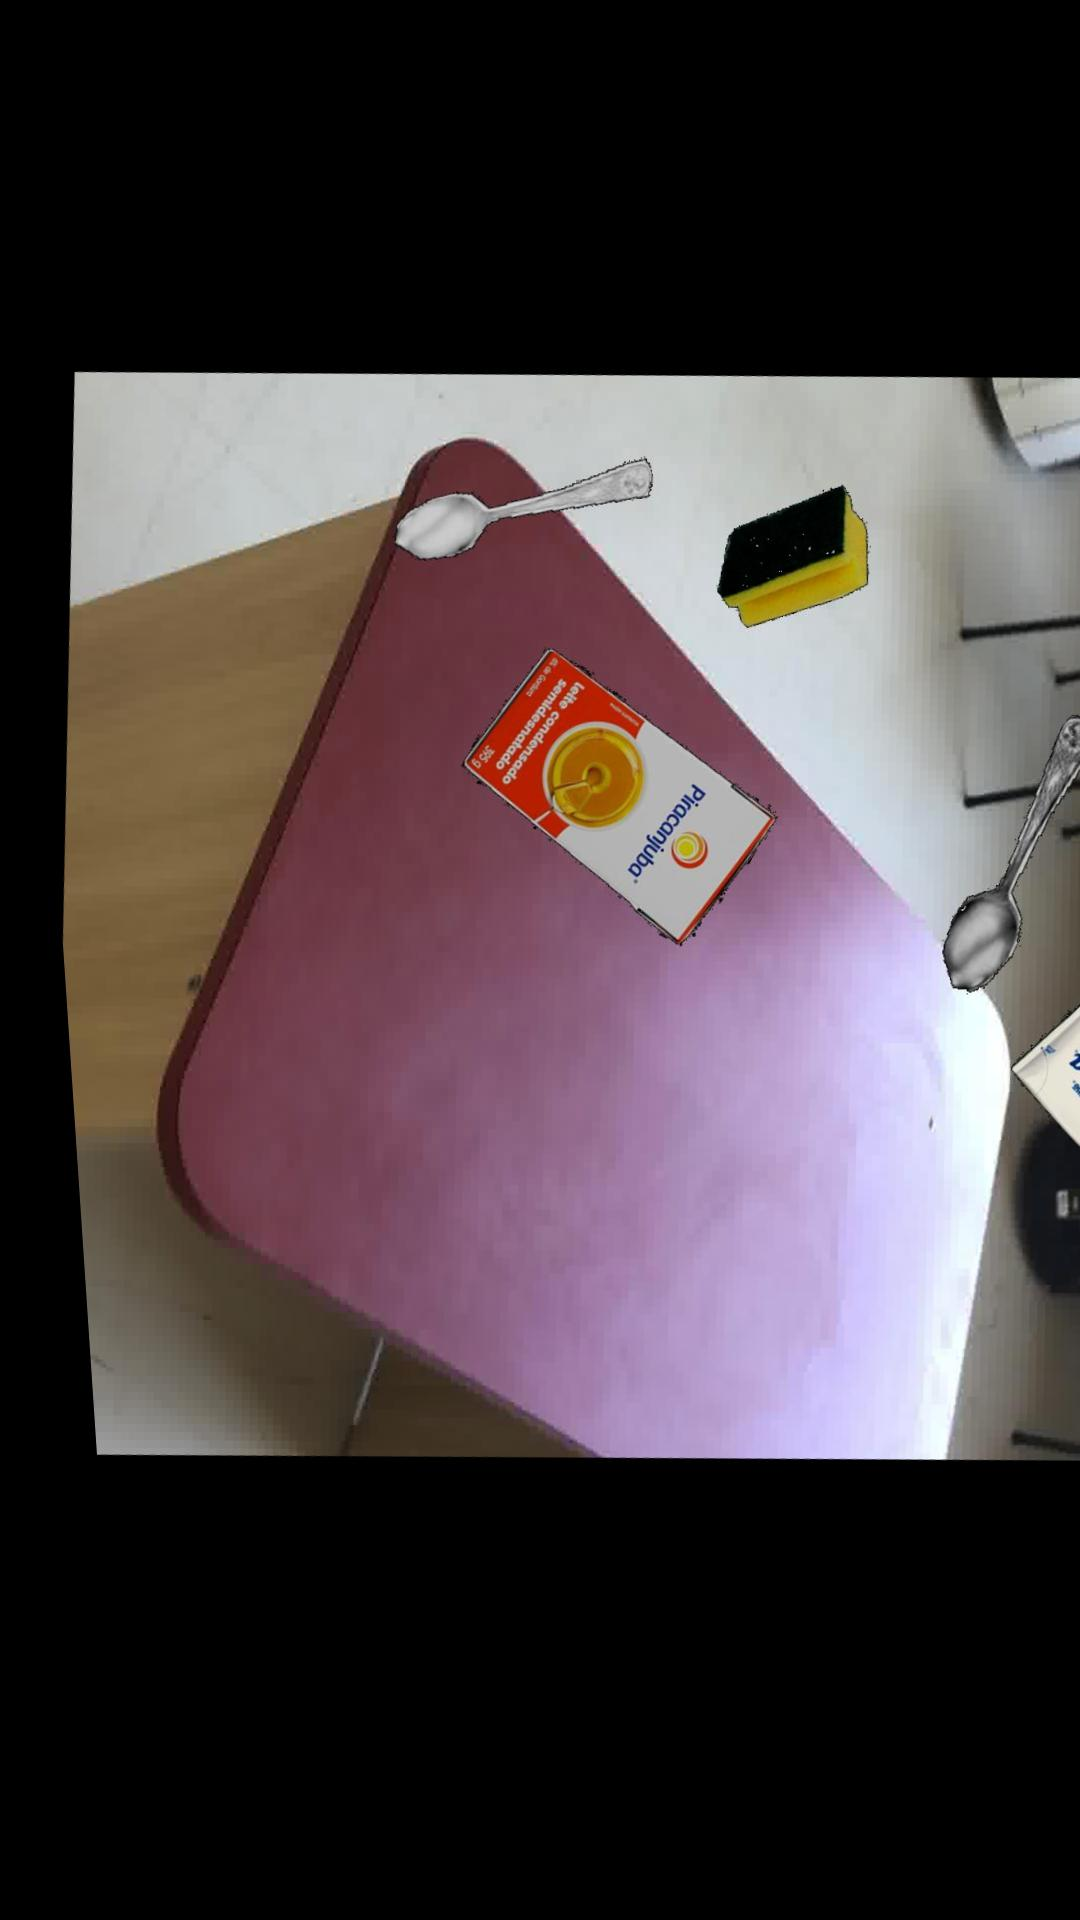corn flakes: (996, 1009, 1080, 1183)
sponge: (709, 500, 861, 641)
spoon: (928, 733, 1080, 1009), (388, 469, 646, 568)
